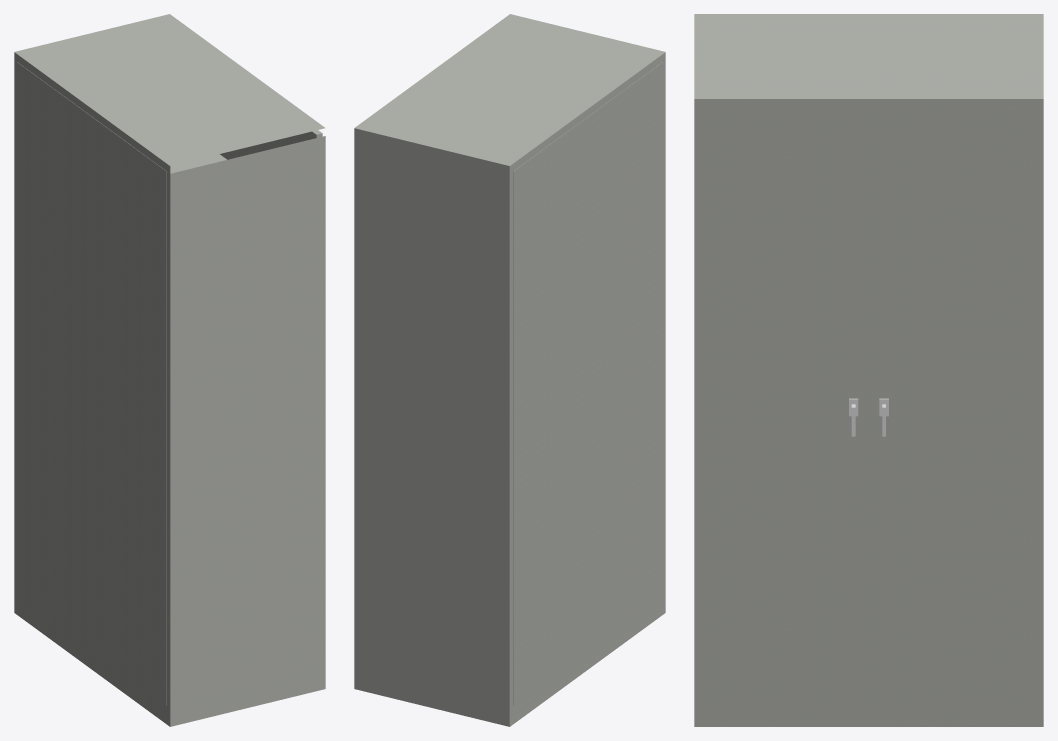
Rendered from cabinet.gltf.
The picture shows the model from 3 angles, left to right: view 1: azimuth 30°, elevation 25°; view 2: azimuth 150°, elevation 25°; view 3: azimuth 270°, elevation 25°; orthographic projection. The views are drawn at different scales.
Parts seen in each view (by area): view 1: Structure, Door Left; view 2: Structure; view 3: Door Right, Door Left, Structure.
Part boxes in pixels (left/top/right/bottom): Structure: left=14, top=14, right=325, bottom=726; Door Left: left=242, top=130, right=322, bottom=156; Structure: left=354, top=14, right=665, bottom=726; Door Right: left=869, top=107, right=1035, bottom=706; Door Left: left=702, top=107, right=868, bottom=706; Structure: left=694, top=14, right=1043, bottom=726.
Size of the model in its own units: 0.556 by 1.83 by 0.92.
2 materials, 2 textured.
